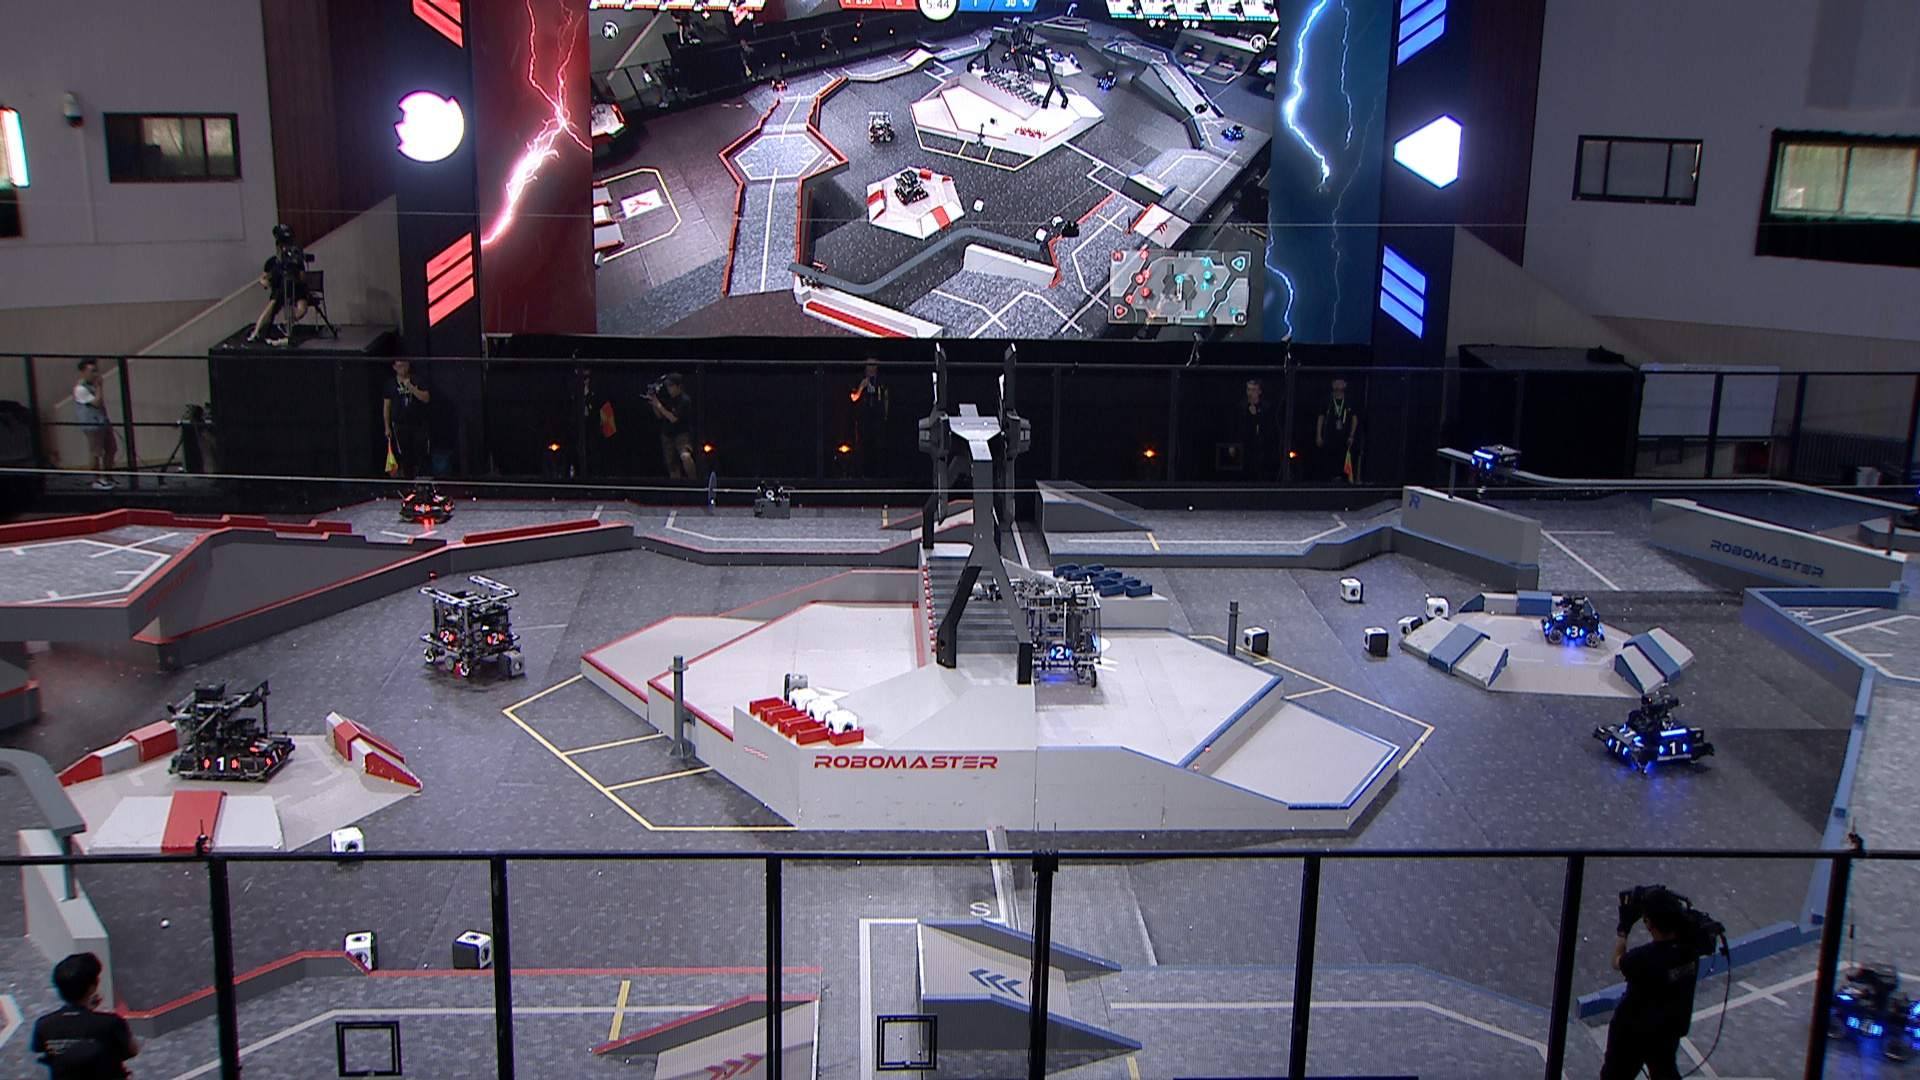armor: (1847, 1015, 1884, 1040), (200, 756, 243, 774), (1836, 982, 1865, 1005), (1605, 736, 1631, 757), (1658, 741, 1691, 757), (248, 736, 273, 756), (1048, 645, 1073, 662), (264, 749, 285, 769), (1621, 727, 1643, 744), (485, 632, 508, 646), (1470, 458, 1494, 471), (438, 629, 456, 645), (1565, 626, 1586, 640), (414, 502, 433, 514), (1551, 609, 1567, 622), (430, 495, 444, 504)
base: (1896, 438, 1920, 535)
car: (166, 679, 291, 785), (419, 574, 520, 683), (1007, 576, 1105, 688), (1593, 690, 1714, 774), (1822, 963, 1920, 1063), (1538, 591, 1605, 647), (400, 476, 456, 524)
ignore: (893, 171, 927, 204), (869, 111, 895, 145), (803, 262, 829, 294), (1095, 71, 1120, 91), (1222, 125, 1245, 142), (769, 74, 789, 92), (1065, 3, 1083, 18), (1050, 49, 1067, 65), (1011, 15, 1025, 29)
watcher: (1470, 440, 1519, 491)
